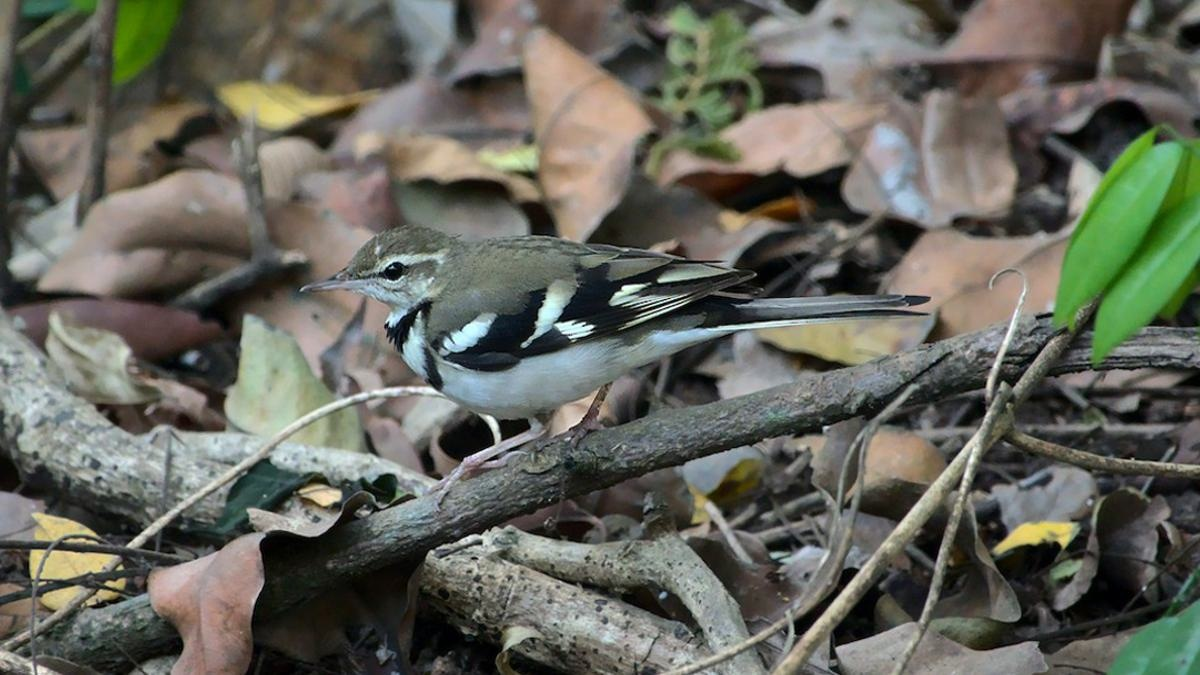wagtail: (325, 217, 819, 463)
